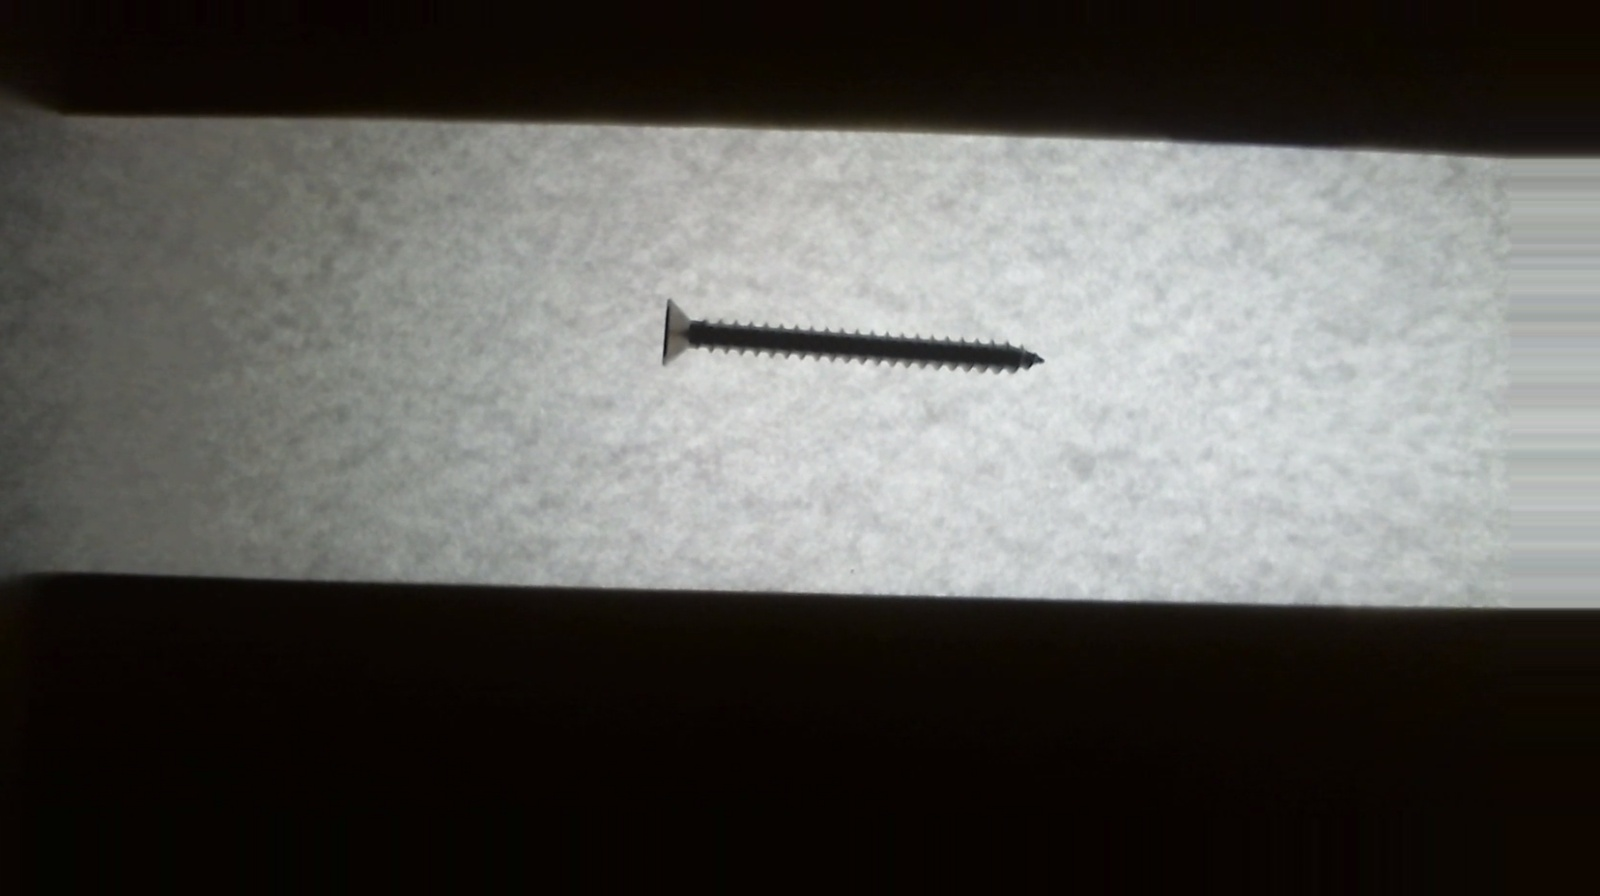S002: (651, 300, 1044, 377)
